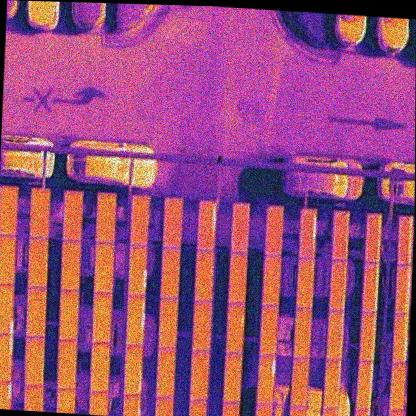Diode: (127, 243, 148, 295), (125, 294, 145, 347), (299, 207, 318, 260), (198, 201, 217, 251), (258, 355, 276, 407), (392, 314, 409, 364), (0, 283, 15, 334), (0, 332, 14, 383)
Hotspot: (226, 301, 246, 356)
Normal: (60, 239, 82, 291), (62, 190, 84, 242), (92, 291, 113, 345), (160, 244, 180, 300), (28, 236, 49, 289), (30, 187, 51, 240), (57, 339, 78, 392), (296, 255, 316, 310), (59, 289, 80, 341), (94, 241, 115, 293), (158, 297, 178, 350), (230, 202, 250, 255), (195, 248, 214, 303), (163, 197, 183, 249), (91, 342, 111, 394), (25, 335, 45, 387), (326, 308, 345, 362), (26, 286, 46, 337), (97, 194, 117, 245), (264, 205, 284, 255), (193, 299, 211, 354), (291, 356, 309, 411), (323, 357, 341, 412), (262, 254, 281, 306), (331, 210, 350, 262), (130, 195, 149, 247), (191, 350, 210, 402), (157, 346, 176, 398), (359, 310, 377, 364), (329, 259, 348, 310), (0, 185, 19, 236), (260, 304, 278, 357), (125, 344, 143, 397), (294, 307, 312, 359), (224, 353, 242, 405), (230, 253, 248, 302), (356, 361, 373, 412), (396, 215, 413, 265), (0, 233, 16, 286), (389, 363, 406, 412), (363, 263, 379, 313), (395, 265, 411, 315), (366, 214, 382, 261)
